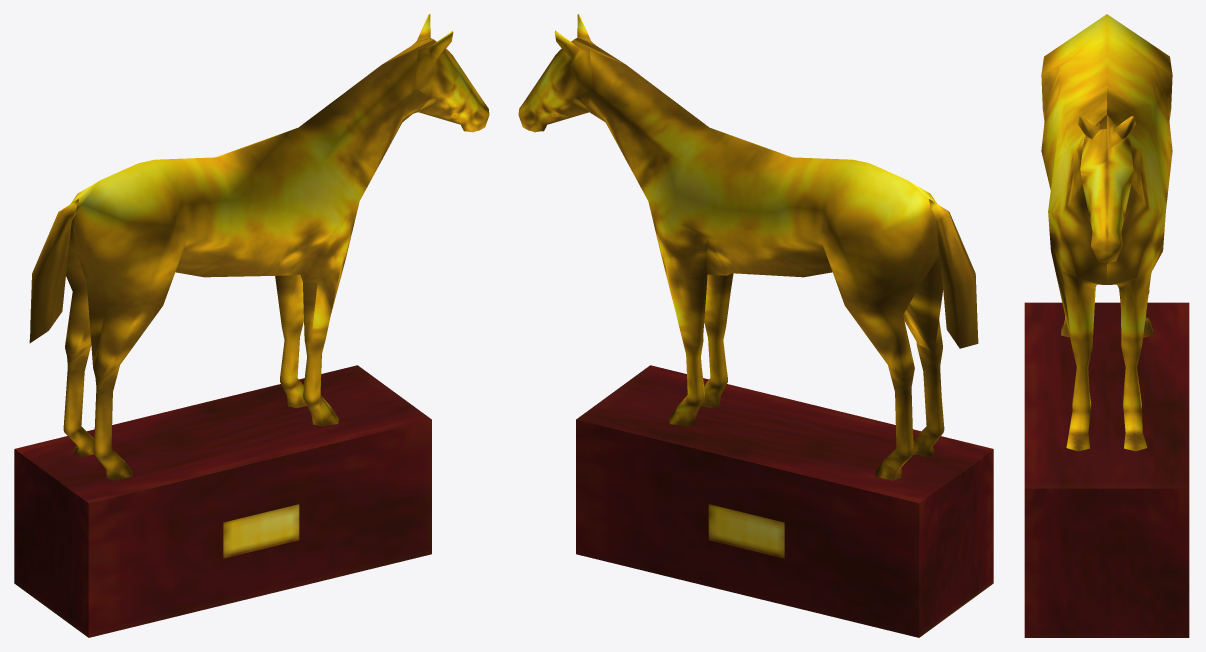
Rendered from ic_taisen.ico.obj.
3 views of the same model, side by side, from view 1: azimuth 30°, elevation 25°; view 2: azimuth 150°, elevation 25°; view 3: azimuth 270°, elevation 25° (orthographic). The views are drawn at different scales.
Size of the model in its own units: 3.83 by 3.93 by 1.1.
1 material, 1 textured.
